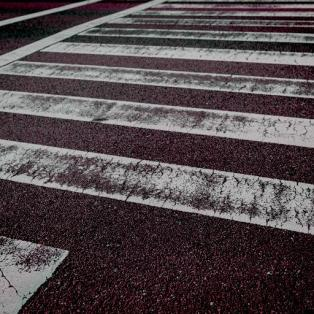Paso de Cebra: (0, 30, 314, 103)
